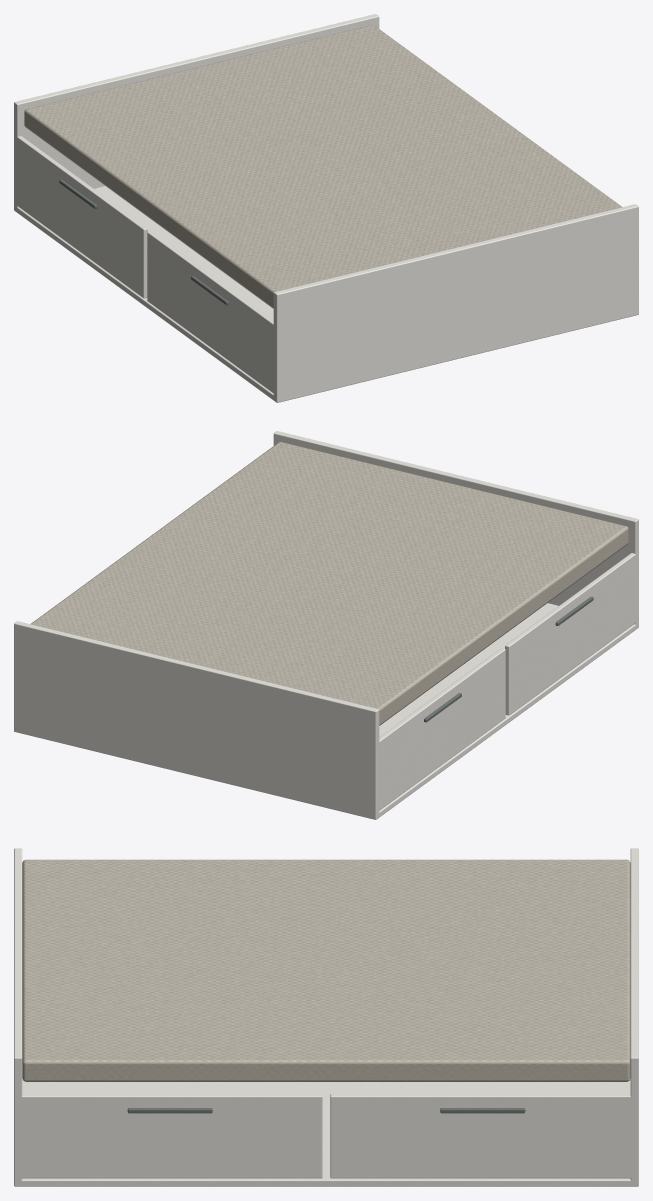
The model's file is brimnes-mobile.glb.
3 renders of one model, top to bottom at view 1: azimuth 30°, elevation 25°; view 2: azimuth 150°, elevation 25°; view 3: azimuth 270°, elevation 25°, orthographic. The views are drawn at different scales.
Parts seen in each view (by area): view 1: BRIMNES Bed frame with drawers; view 2: BRIMNES Bed frame with drawers; view 3: BRIMNES Bed frame with drawers.
Part boxes in pixels (left/top/right/bottom): BRIMNES Bed frame with drawers: left=14, top=14, right=638, bottom=402; BRIMNES Bed frame with drawers: left=14, top=431, right=638, bottom=819; BRIMNES Bed frame with drawers: left=14, top=848, right=638, bottom=1186.
Bounding box in the file's own units: 1.66 × 0.47 × 2.06.
Materials: 3 (2 with a texture image).
